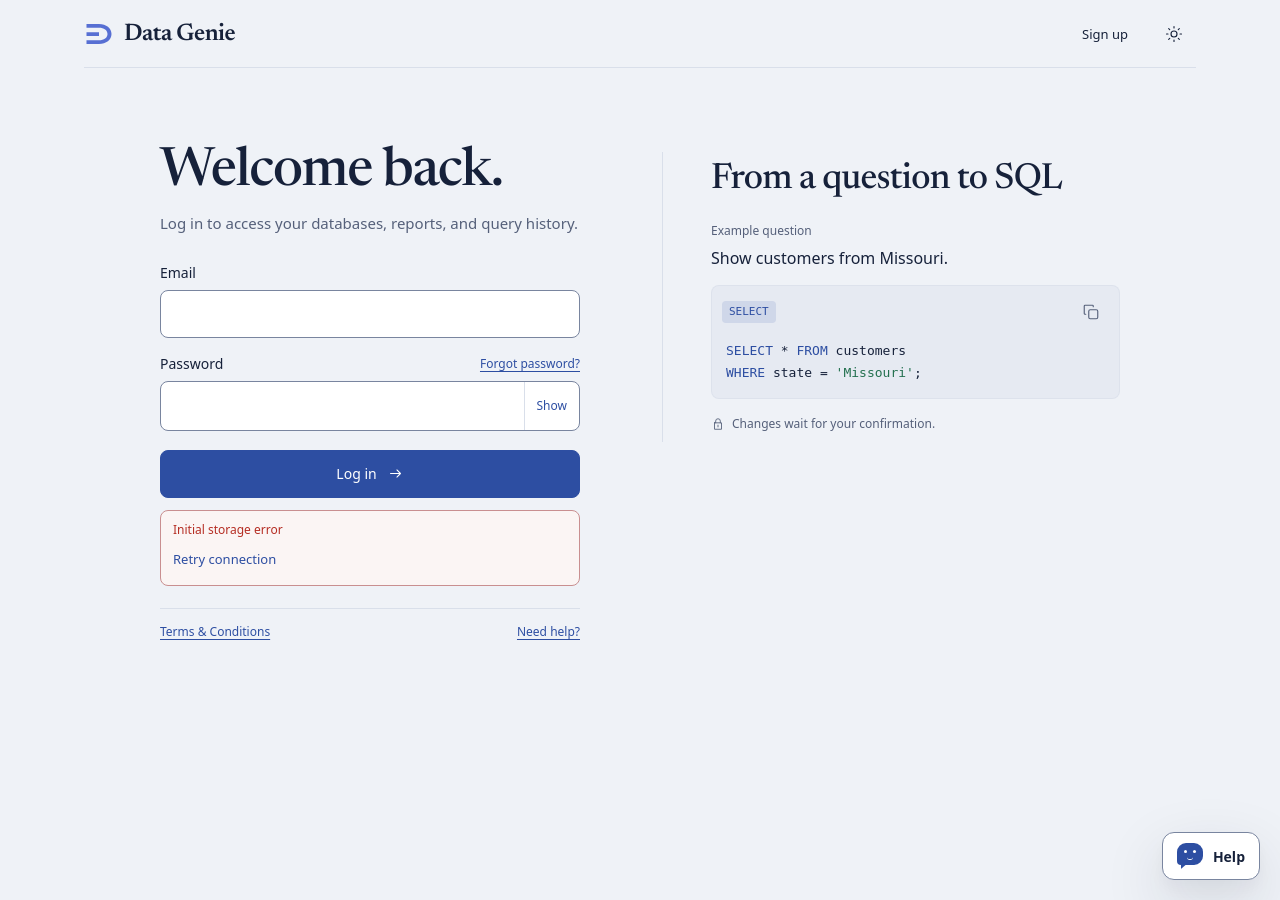
React pages and account flow › keeps the latest connection error when a read-only retry also fails
The image size is (1280, 900).
Expected: the text "Initial storage error" is shown, [173,521,283,538]
In the field labelled "Email": (370,314) [160,290,580,338], type "reader@example.test"
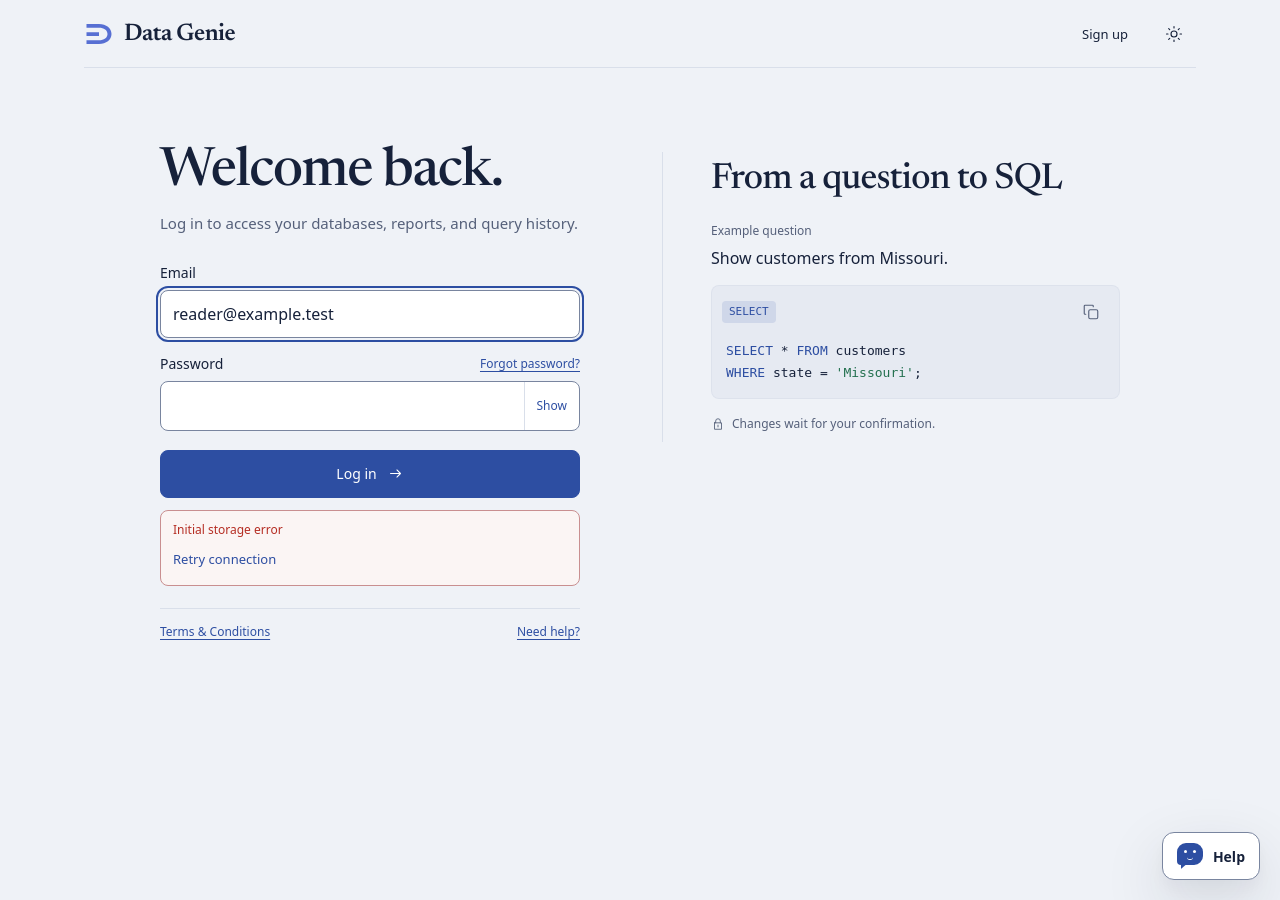
Click the button "Retry connection": (225,557) [173,539,276,575]
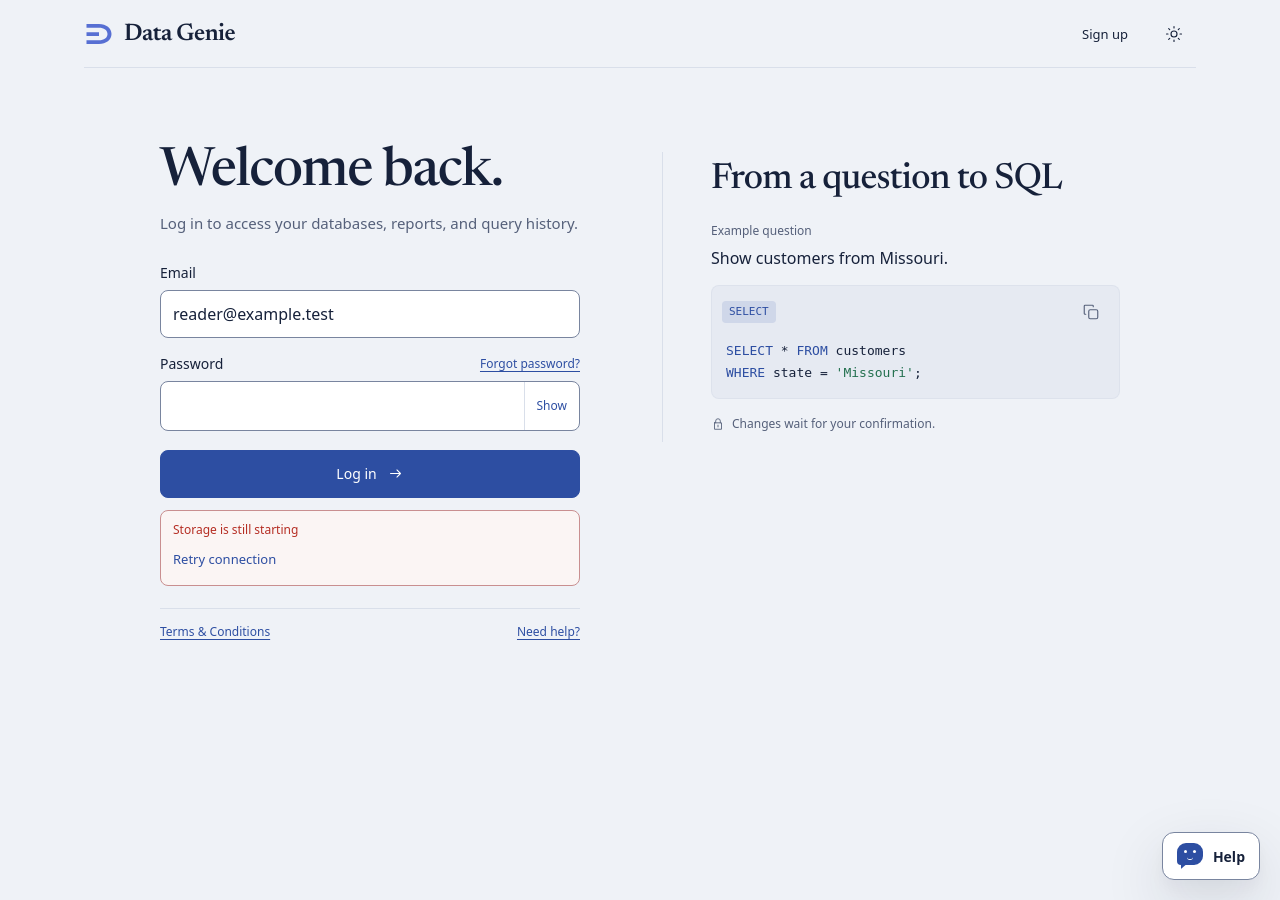
Expected: the text "Storage is still starting" is shown, [173,521,298,538]
Expected: the text "Initial storage error" is gone
